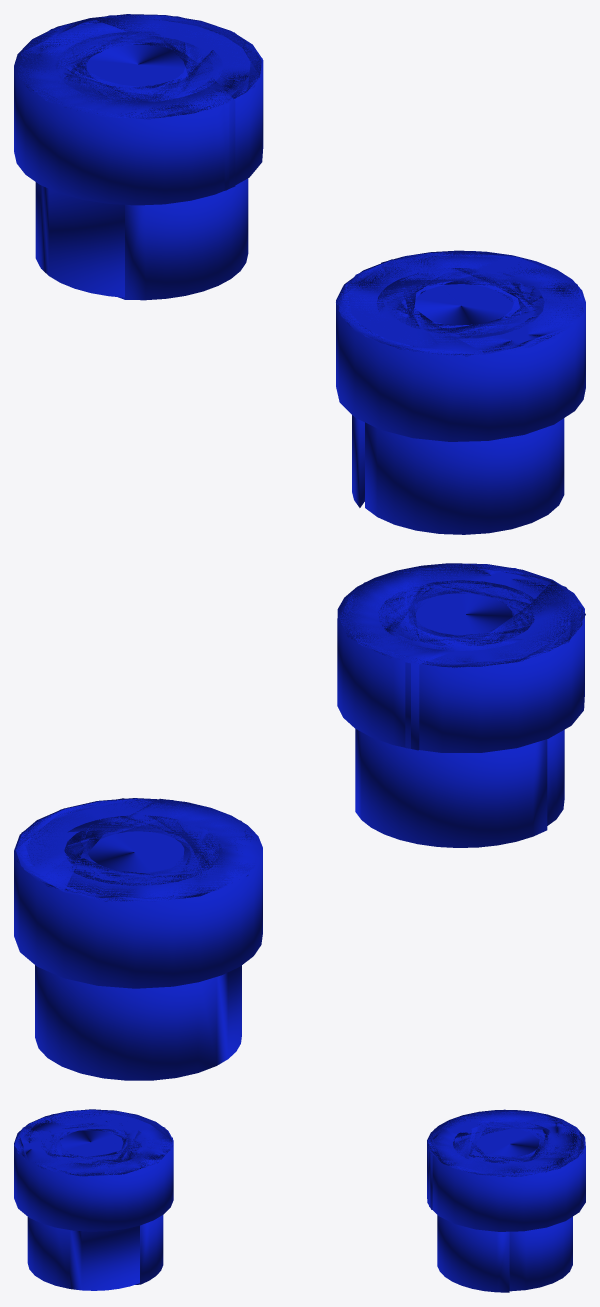
File: tuyeau_element_000041.obj
3 views of the same model, one above another, from view 1: azimuth 30°, elevation 25°; view 2: azimuth 150°, elevation 25°; view 3: azimuth 270°, elevation 25° (orthographic). The views are drawn at different scales.
Visible parts, largest first — view 1: tuyeau1_Cube.014, tuyeau2_Cube.017; view 2: tuyeau2_Cube.017, tuyeau1_Cube.014; view 3: tuyeau2_Cube.017, tuyeau1_Cube.014.
Boxes of the visible parts, x1,y1,x2,y2 form: tuyeau1_Cube.014: (14,14,263,300); tuyeau2_Cube.017: (336,250,585,534); tuyeau2_Cube.017: (337,563,585,847); tuyeau1_Cube.014: (14,798,262,1080); tuyeau2_Cube.017: (14,1109,173,1290); tuyeau1_Cube.014: (427,1109,585,1292).
Size of the model in its own units: 3543 by 2917 by 12623.
